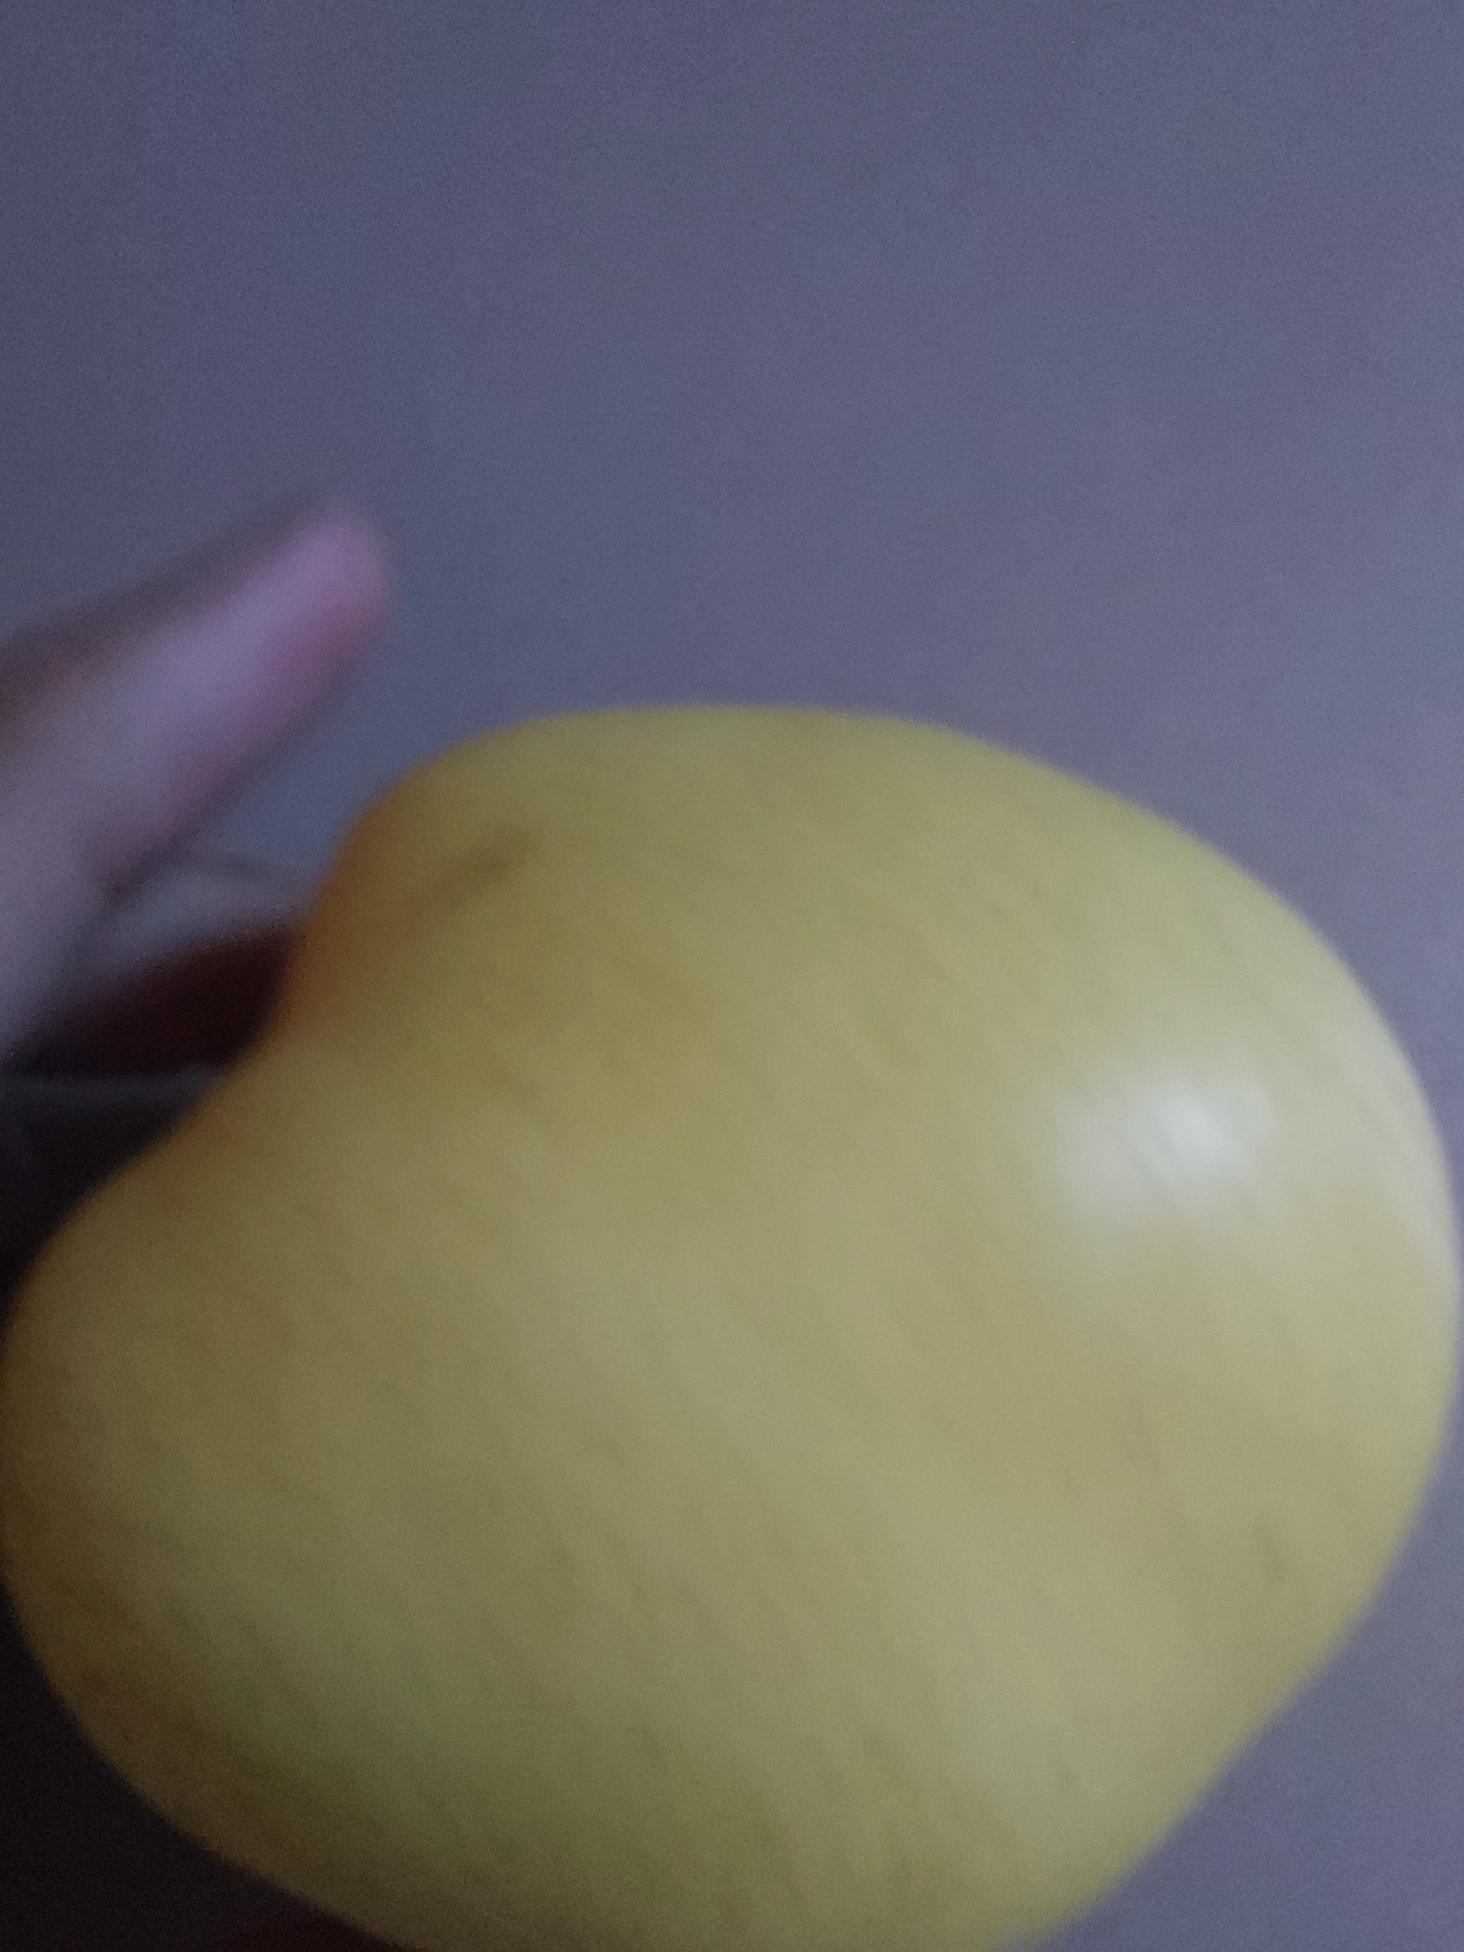Good Pear: (11, 699, 1453, 1952)
